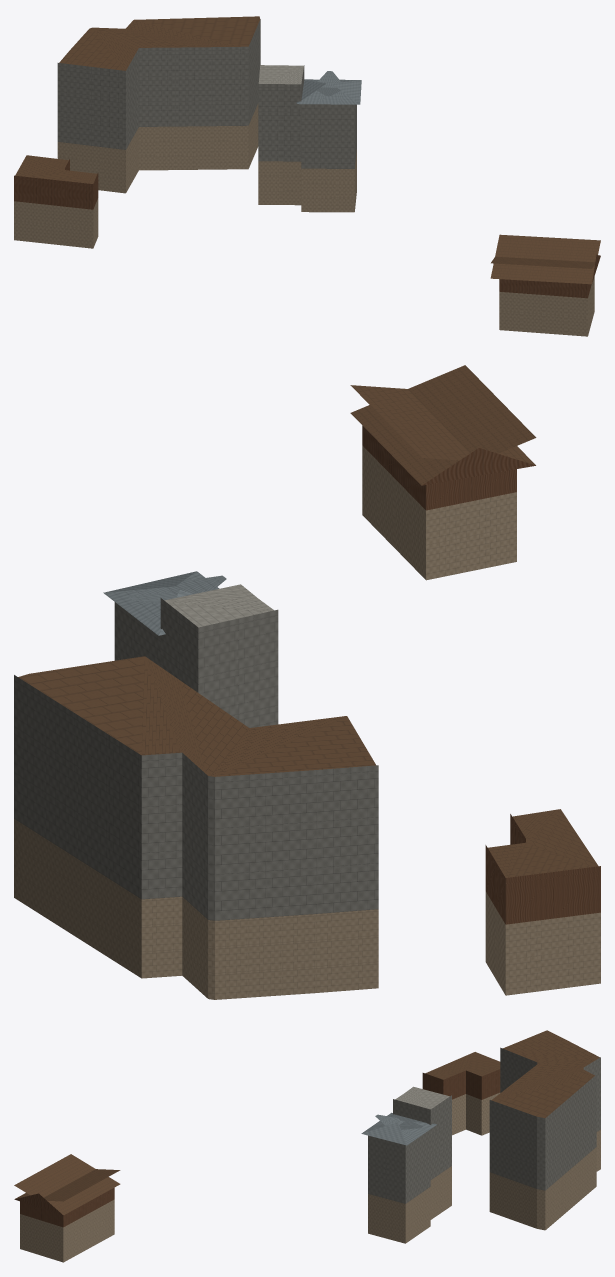
File: bld_c42_31_270.gltf
The picture shows the model from 3 angles, top to bottom: view 1: azimuth 30°, elevation 25°; view 2: azimuth 150°, elevation 25°; view 3: azimuth 270°, elevation 25°; orthographic projection. The views are drawn at different scales.
Parts seen in each view (by area): view 1: bld_c42_31_270; view 2: bld_c42_31_270; view 3: bld_c42_31_270.
Boxes of the visible parts, left/top/right/bottom form: bld_c42_31_270: left=14, top=16, right=600, bottom=336; bld_c42_31_270: left=14, top=365, right=600, bottom=999; bld_c42_31_270: left=14, top=1030, right=600, bottom=1262.
Size of the model in its own units: 44.51 by 15.18 by 68.19.
8 materials, 8 textured.
